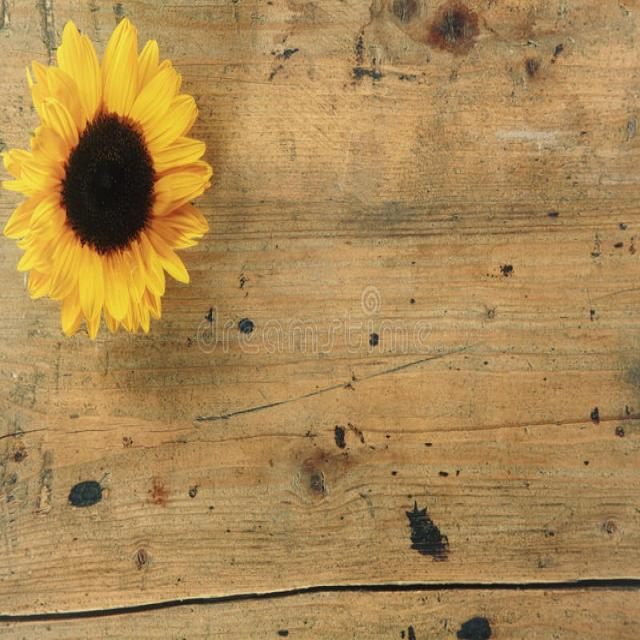sunflower: (10, 13, 234, 348)
